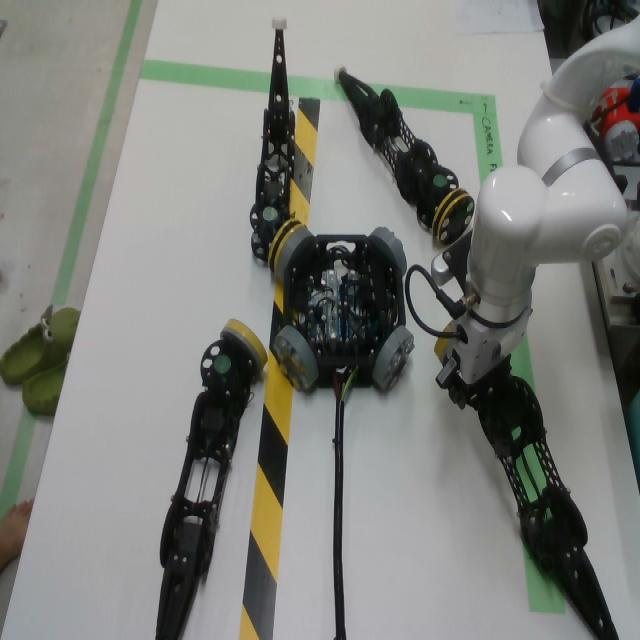body: (284, 235, 406, 389)
body_connector: (273, 325, 319, 392), (372, 325, 415, 393), (276, 227, 315, 279), (370, 227, 407, 275)
gripper: (436, 308, 533, 411)
leg: (467, 355, 620, 640), (155, 319, 268, 640), (334, 64, 475, 245), (249, 15, 306, 275), (433, 337, 449, 367), (442, 320, 453, 333)
leg_connector: (219, 319, 268, 371), (433, 189, 475, 245), (268, 219, 303, 275), (434, 339, 450, 365), (443, 321, 458, 333)
leg_marker: (213, 355, 231, 373), (263, 207, 277, 223), (433, 175, 447, 187)
